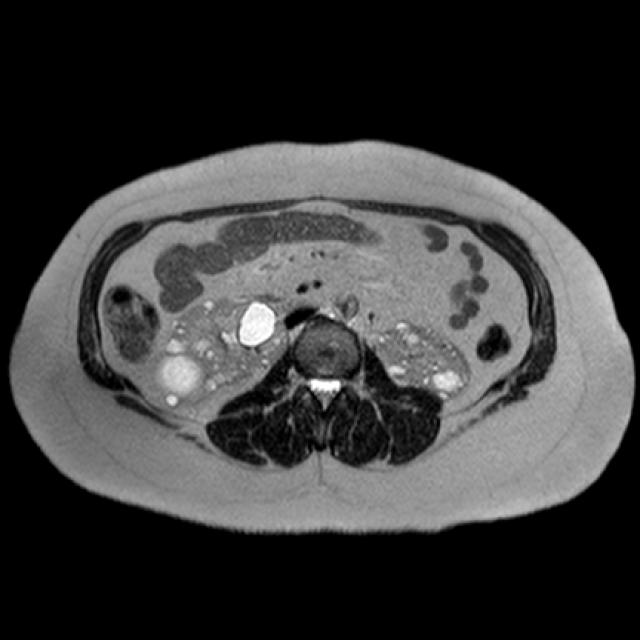sag: (147, 290, 291, 411)
sol: (370, 321, 471, 398)
